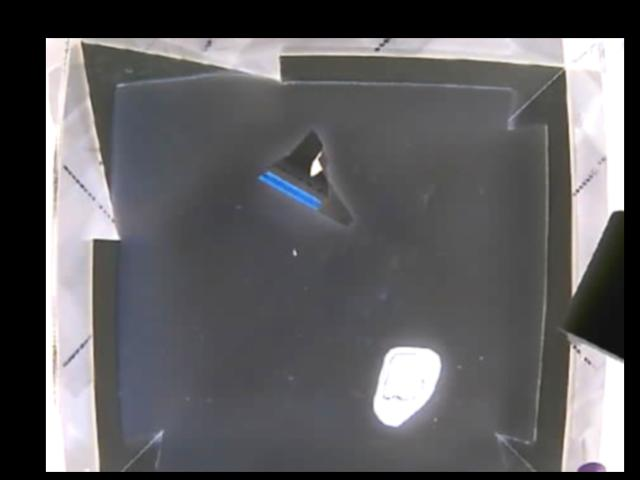China: (257, 129, 362, 226)
Pebble: (372, 344, 445, 429)
